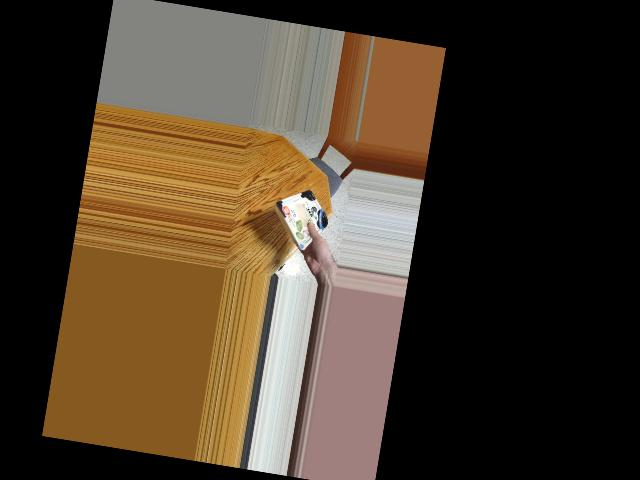cheese: (274, 185, 327, 245)
